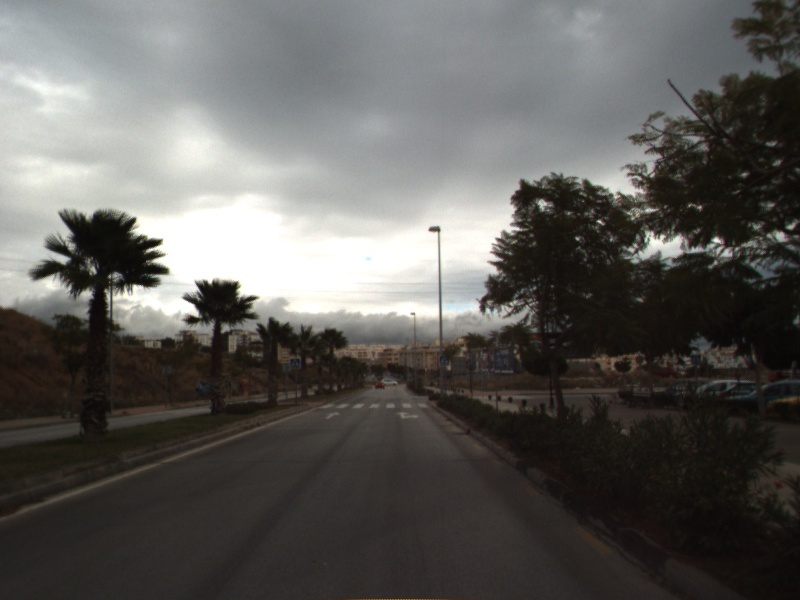STRAIGHT: (323, 410, 342, 421)
STRAIGHT_RIGHT: (394, 409, 422, 421)
